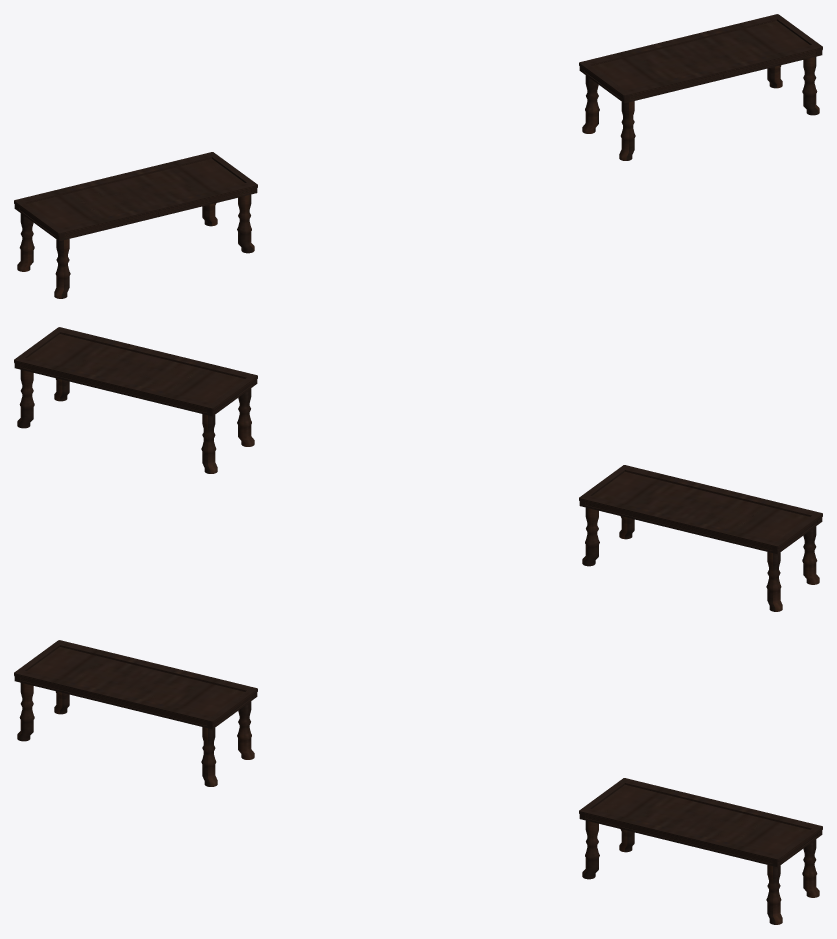
File: SM_LibraryTable.fbx
3 views of the same model, one above another, from view 1: azimuth 30°, elevation 25°; view 2: azimuth 150°, elevation 25°; view 3: azimuth 330°, elevation 25° (orthographic).
Parts seen in each view (by area): view 1: Table.001, Table 2.001; view 2: Table.001, Table 2.001; view 3: Table 2.001, Table.001.
Boxes of the visible parts, <box> form: Table.001: <box>579,14,822,160</box>; Table 2.001: <box>14,152,257,298</box>; Table.001: <box>14,327,257,473</box>; Table 2.001: <box>579,465,822,611</box>; Table 2.001: <box>14,640,257,786</box>; Table.001: <box>579,778,822,924</box>.
Bounding box in the file's own units: 402 × 33.75 × 41.27.
